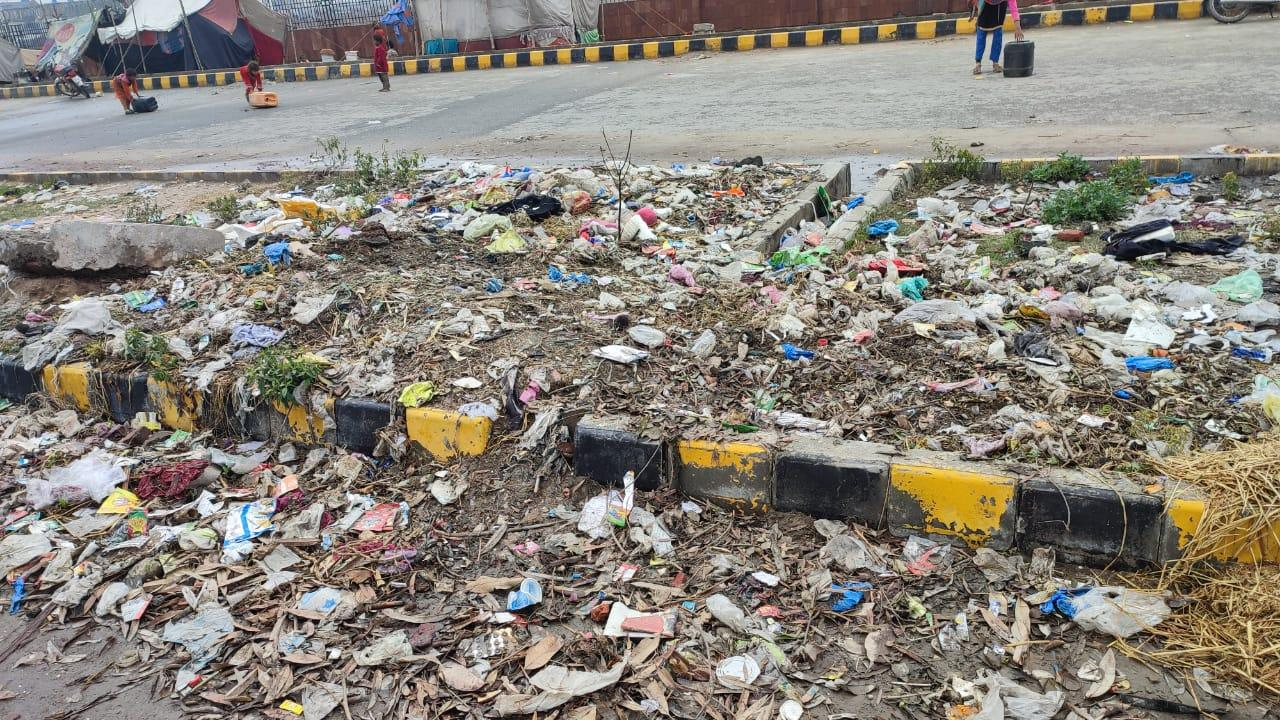garbage: (1, 172, 1280, 720)
